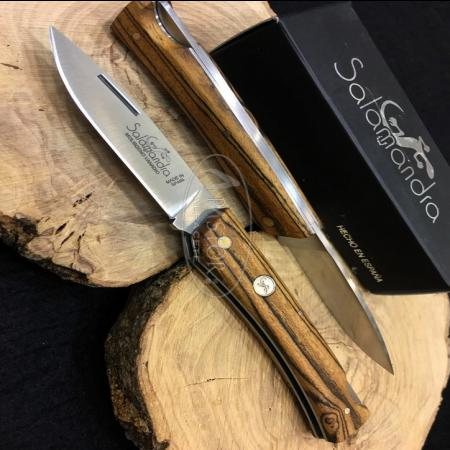long weapon: (46, 18, 238, 238), (270, 226, 398, 382)
